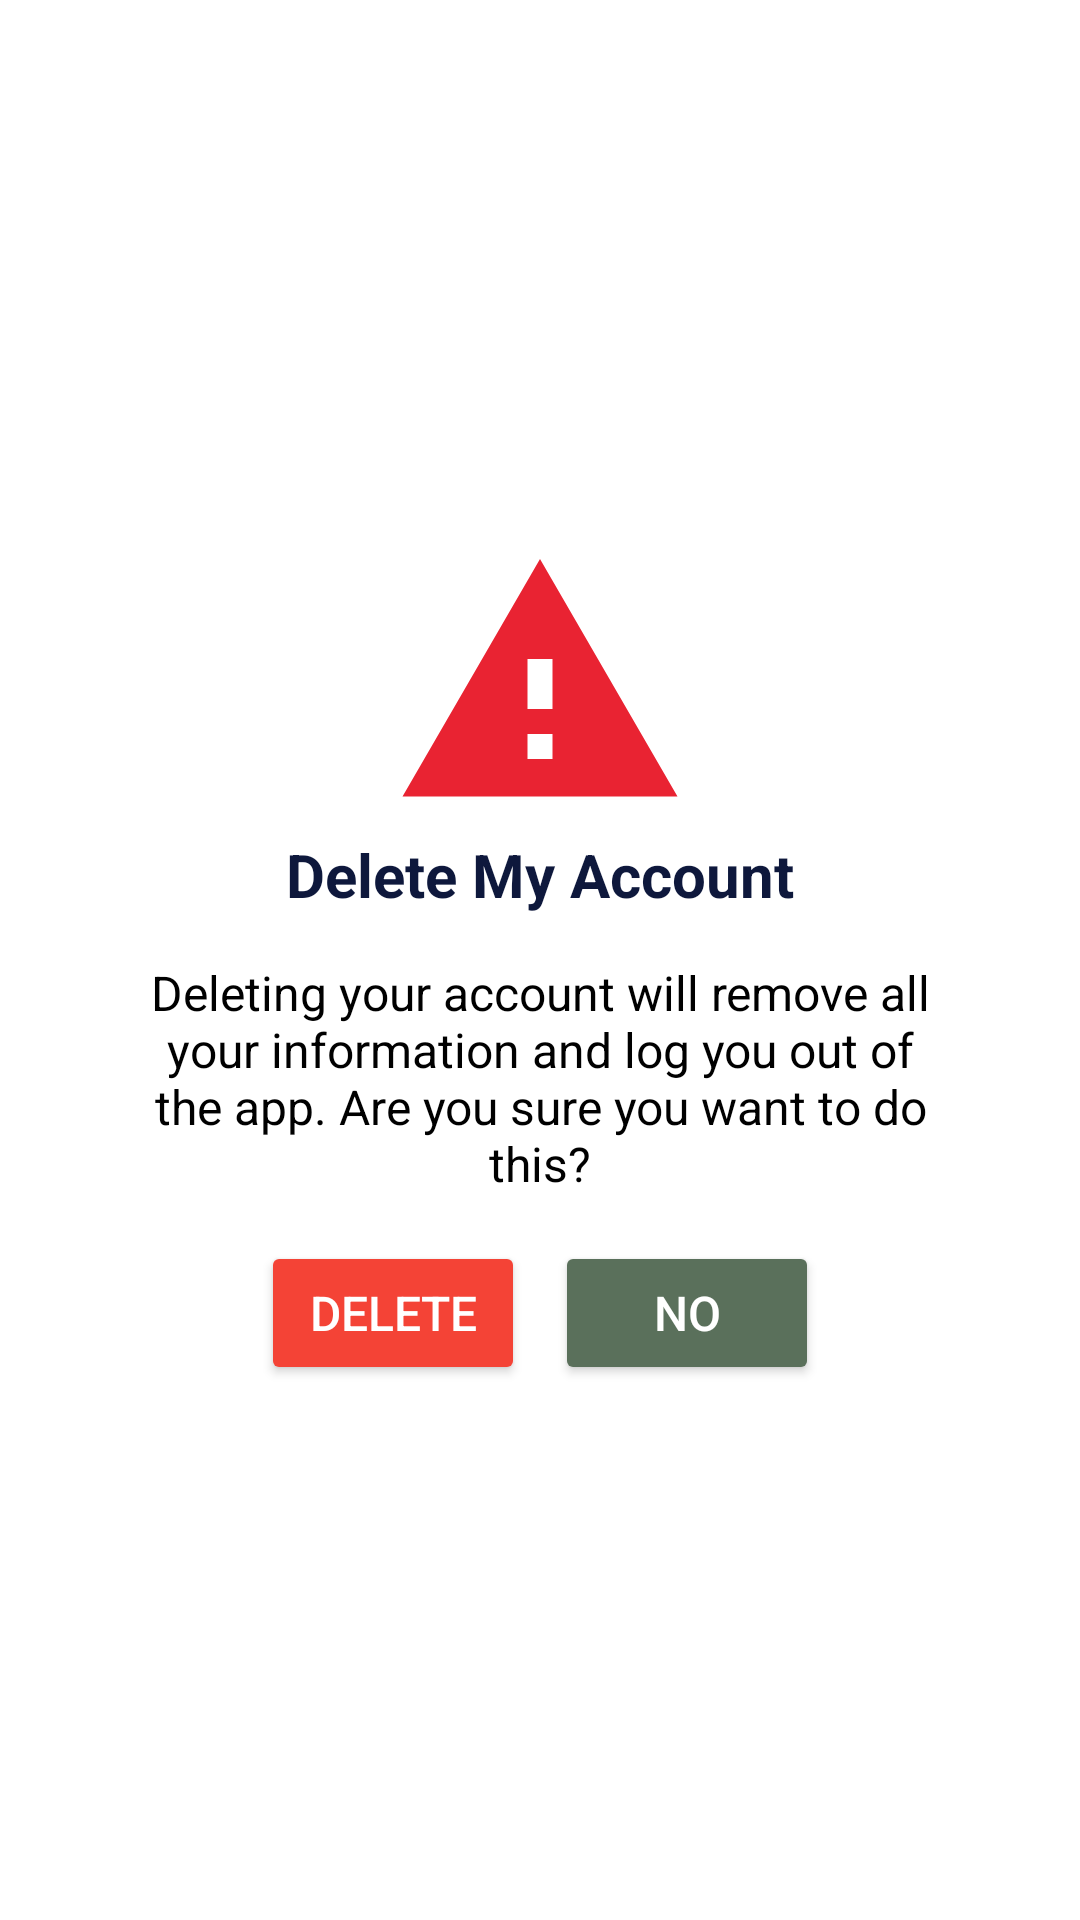

Where icons sit on this 1080px x 1920px app screen, as (x1, y1, x2, y2):
warning: (402, 559, 678, 797)
